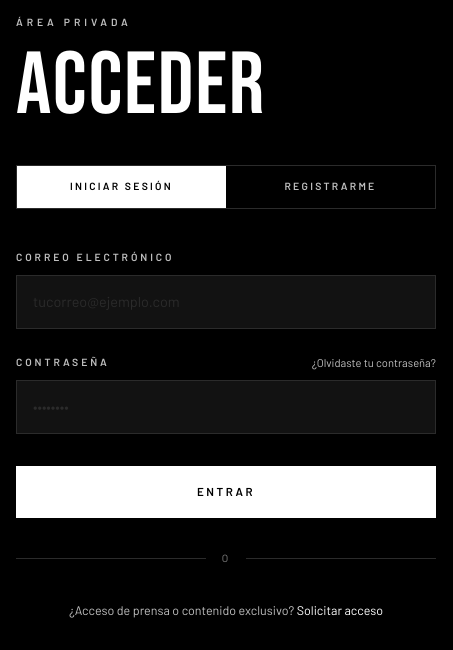
Test: Login › muestra el mensaje de error cuando signIn falla
The image size is (453, 650).
Type "wrong@email.com" into the field labelled "Correo electrónico" at (226, 302), box x1=16 y1=274 x2=436 y2=329
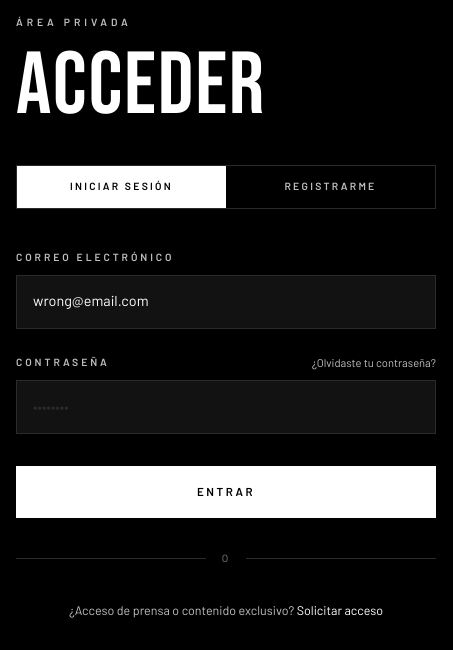
Type "wrongpassword" into the password field labelled "Contraseña" at (226, 407), box x1=16 y1=380 x2=436 y2=434
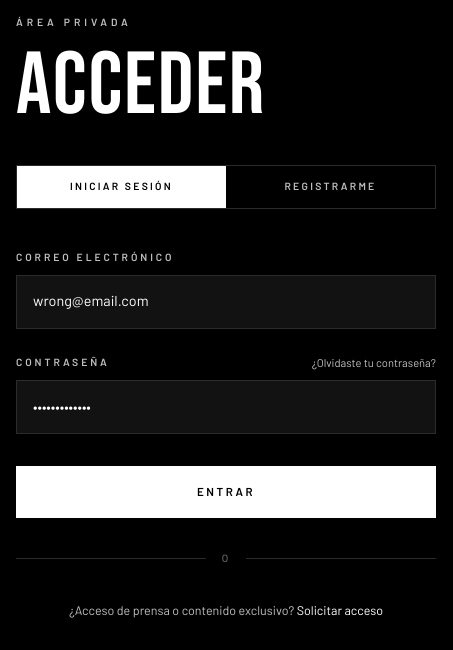
Submit the form "Entrar", box x1=16 y1=249 x2=436 y2=518
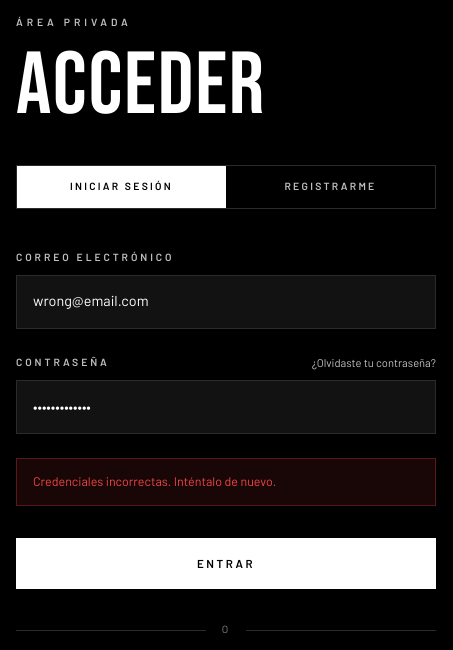
expect the text "Credenciales incorrectas. Inténtalo de nuevo." is shown: met, box x1=16 y1=458 x2=436 y2=506
